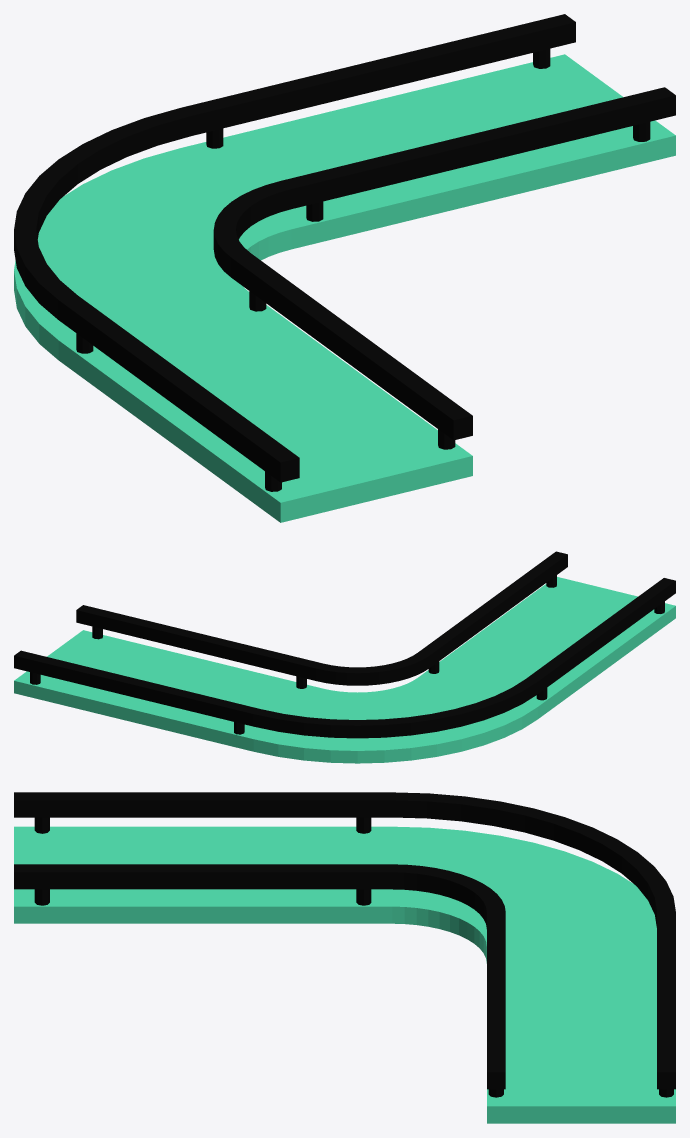
Rendered from pont2.fbx.
3 views of the same model, one above another, from view 1: azimuth 30°, elevation 25°; view 2: azimuth 150°, elevation 25°; view 3: azimuth 270°, elevation 25° (orthographic). The views are drawn at different scales.
Visible parts, largest first — view 1: Cube.003, Cube.005, Cube.004; view 2: Cube.003, Cube.005, Cube.004; view 3: Cube.003, Cube.005, Cube.004, Cylindre.007, Cylindre.008.
Boxes of the visible parts, x1,y1,x2,y2 form: Cube.003: (14, 54, 675, 522); Cube.005: (14, 14, 575, 482); Cube.004: (213, 87, 675, 440); Cube.003: (14, 577, 675, 763); Cube.005: (14, 578, 675, 738); Cube.004: (76, 551, 567, 685); Cube.003: (14, 826, 675, 1123); Cube.005: (14, 792, 675, 1089); Cube.004: (14, 864, 505, 1089); Cylindre.007: (356, 817, 371, 905); Cylindre.008: (34, 817, 49, 905).
Size of the model in its own units: 1750 by 150 by 1750.
